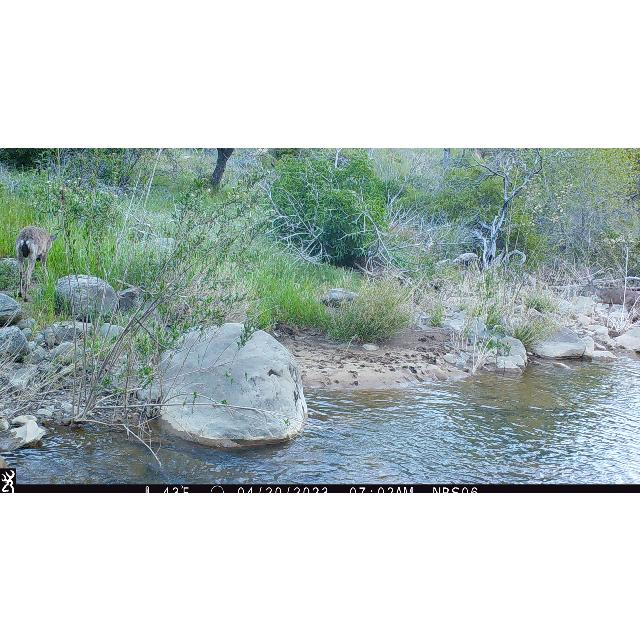animals: (18, 224, 58, 302), (582, 277, 640, 319)
